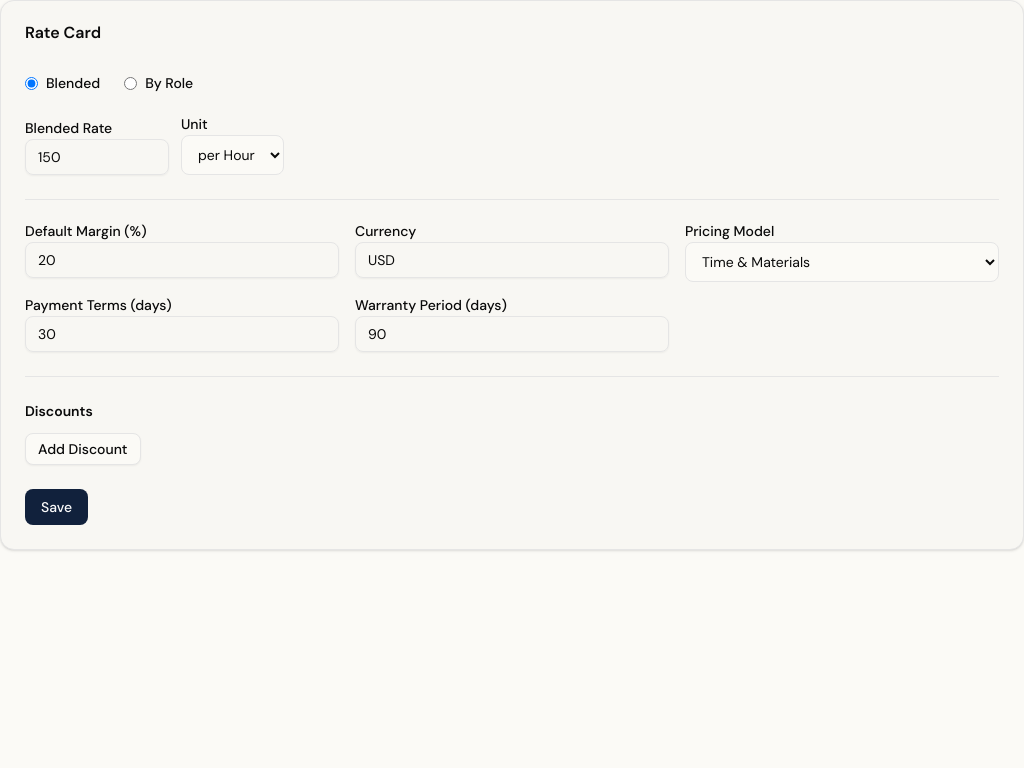
Test: Interaction tests › clicking "By Role" mode option shows role table section
expect the radio button labelled "Blended" is shown: met, box [25, 76, 38, 90]
Click the radio button labelled "By Role". click: x=131, y=83
box: [124, 76, 137, 90]
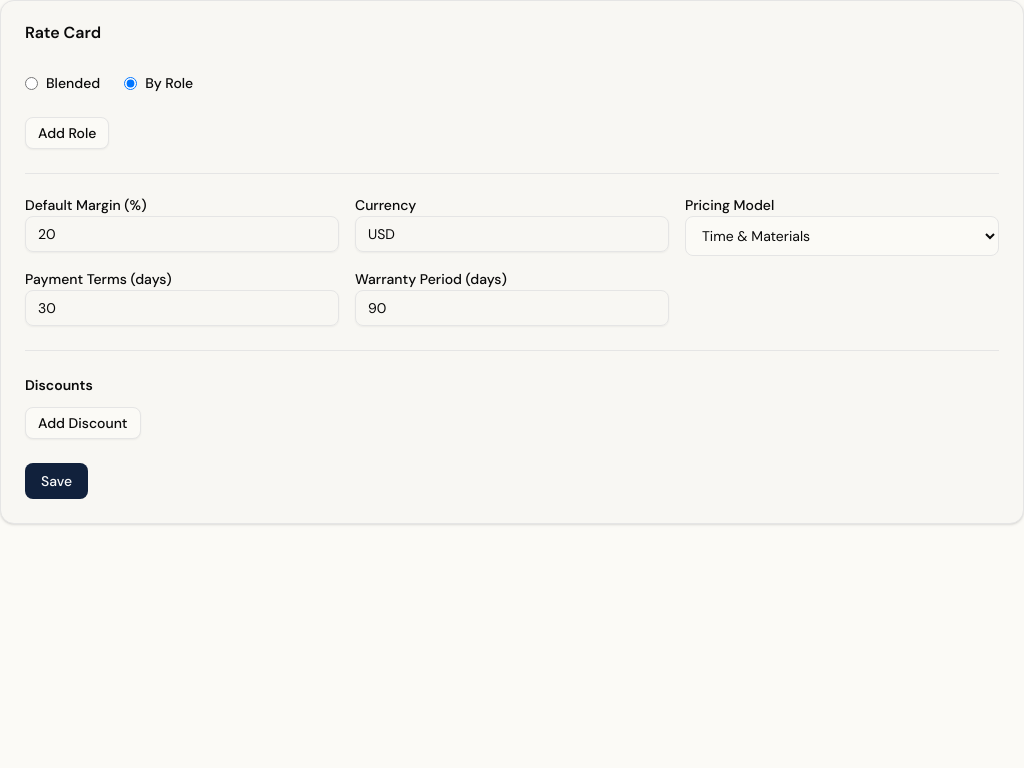
expect the button "Add Role" is shown: met, box [25, 117, 109, 149]
